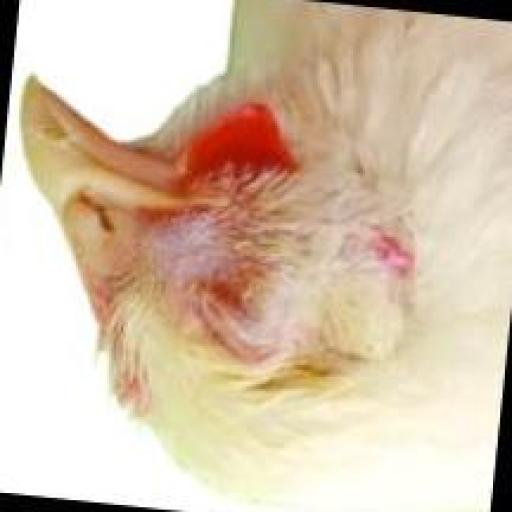disease: (187, 225, 320, 372)
